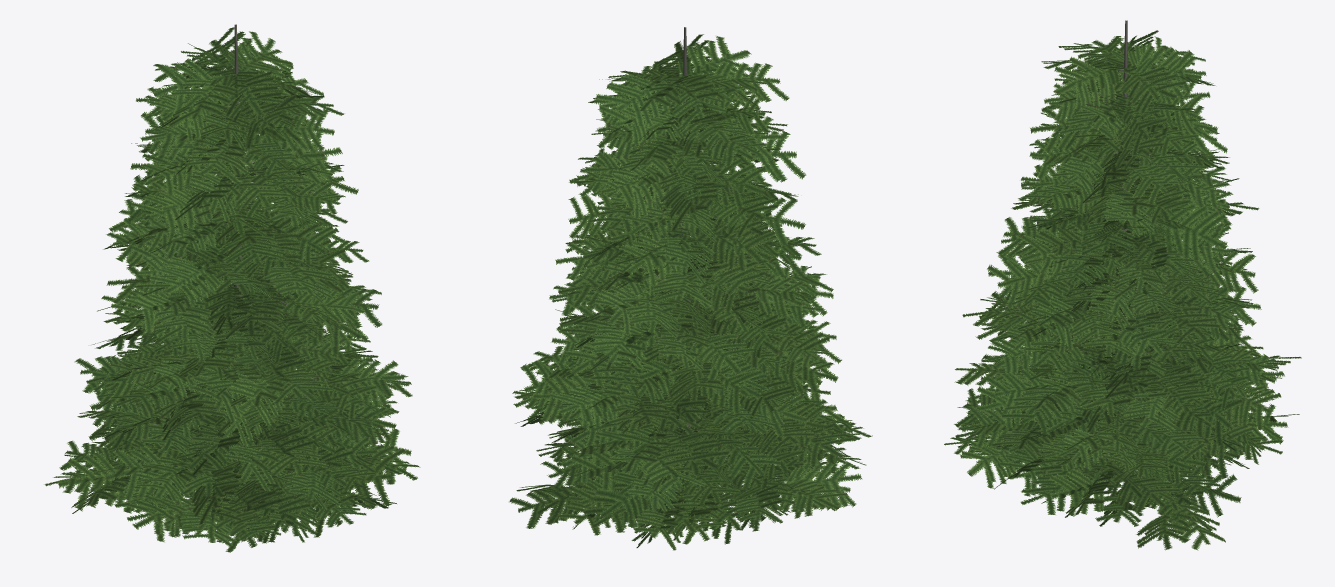
File: jedle_mlada.glb
3 renders of one model, left to right at view 1: azimuth 30°, elevation 25°; view 2: azimuth 150°, elevation 25°; view 3: azimuth 270°, elevation 25°, orthographic. The views are drawn at different scales.
Parts seen in each view (by area): view 1: jedle_mlada; view 2: jedle_mlada; view 3: jedle_mlada.
Part boxes in pixels (x1,y1,x2,y2): jedle_mlada: (44,24,420,552); jedle_mlada: (509,27,872,550); jedle_mlada: (944,20,1301,550).
Size of the model in its own units: 5.27 by 6.79 by 5.
Materials: 2 (2 with a texture image).
